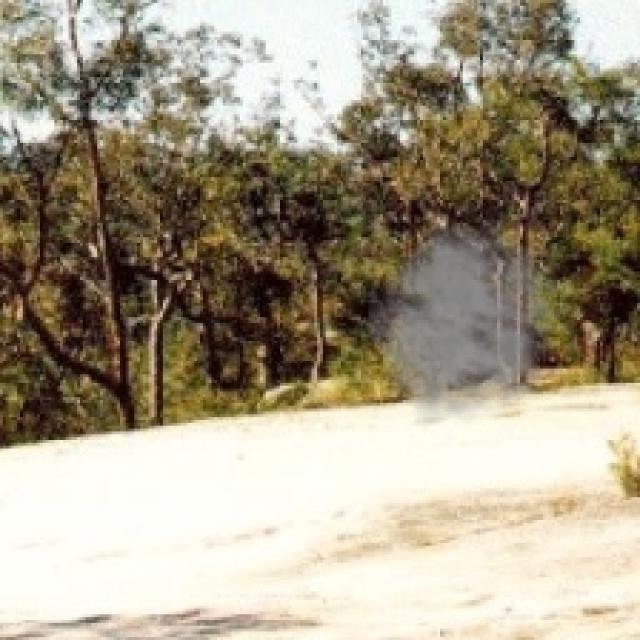Smoke: (366, 208, 574, 426)
